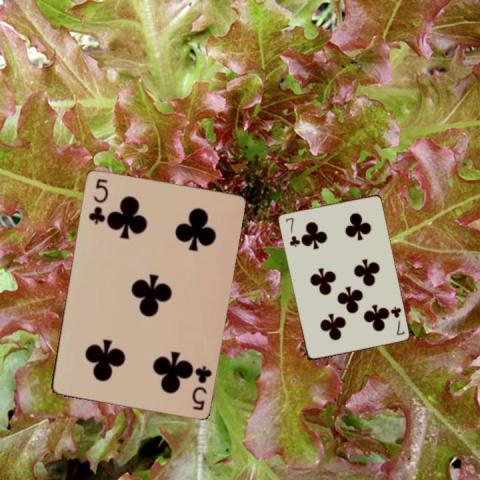5c: (188, 362, 213, 411), (85, 176, 109, 226)
7c: (387, 303, 406, 337), (283, 214, 299, 248)
